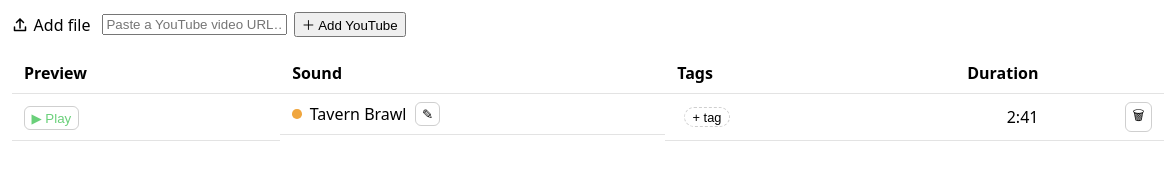
Scenario: clicking Play builds a player for that sound, plays it, and flips the row to Stop (#43)
The width and height of the screenshot is (1164, 174).
Expected: the text "Tavern Brawl" is shown, [310,102,406,126]
Click the button "▶ Play": x=51, y=118 [24,106,79,130]
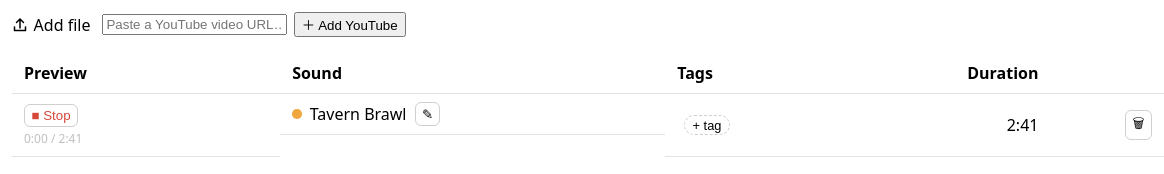
Now the button "■ Stop" is shown, box [24,104,78,127]
